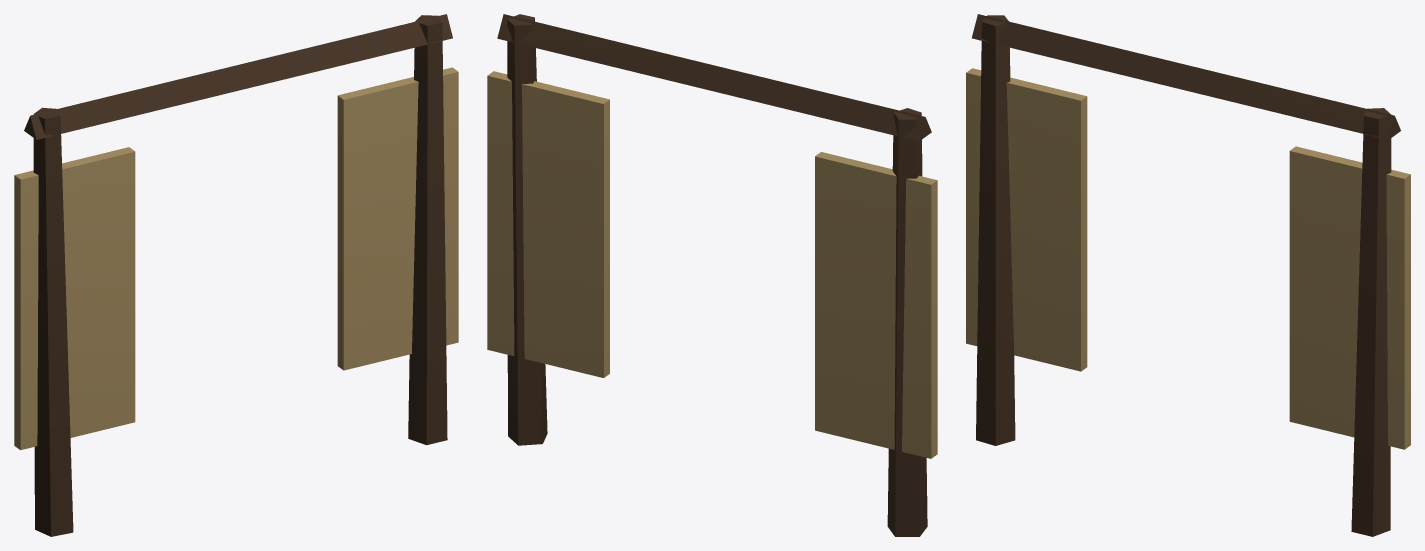
File: caral_windbreak_lod1.glb
The picture shows the model from 3 angles, left to right: view 1: azimuth 30°, elevation 25°; view 2: azimuth 150°, elevation 25°; view 3: azimuth 330°, elevation 25°; orthographic projection.
Parts seen in each view (by area): view 1: GEO-Props_windbreak_LOD1; view 2: GEO-Props_windbreak_LOD1; view 3: GEO-Props_windbreak_LOD1.
Boxes of the visible parts, left/top/right/bottom form: GEO-Props_windbreak_LOD1: left=14, top=14, right=458, bottom=536; GEO-Props_windbreak_LOD1: left=487, top=14, right=937, bottom=536; GEO-Props_windbreak_LOD1: left=966, top=14, right=1410, bottom=536.
Size of the model in its own units: 1.22 by 1.11 by 0.0968.
